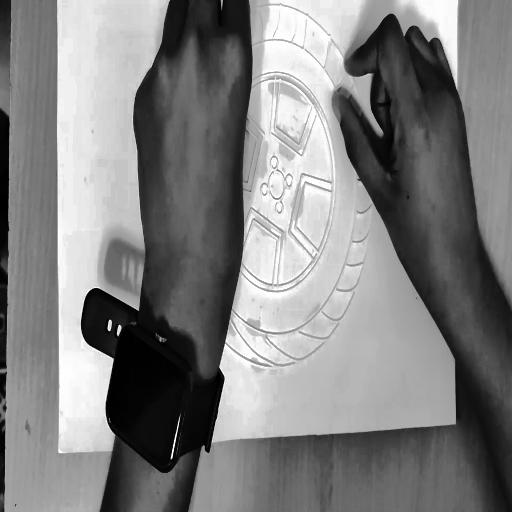bottom_left: (56, 444, 63, 459)
bottom_right: (452, 415, 461, 432)
tire: (152, 0, 382, 389)
